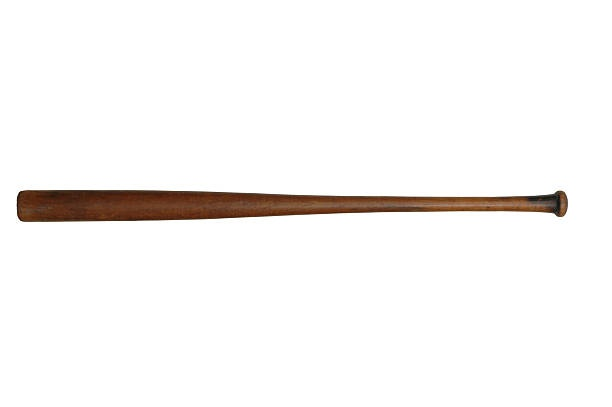bita: (17, 186, 571, 220)
